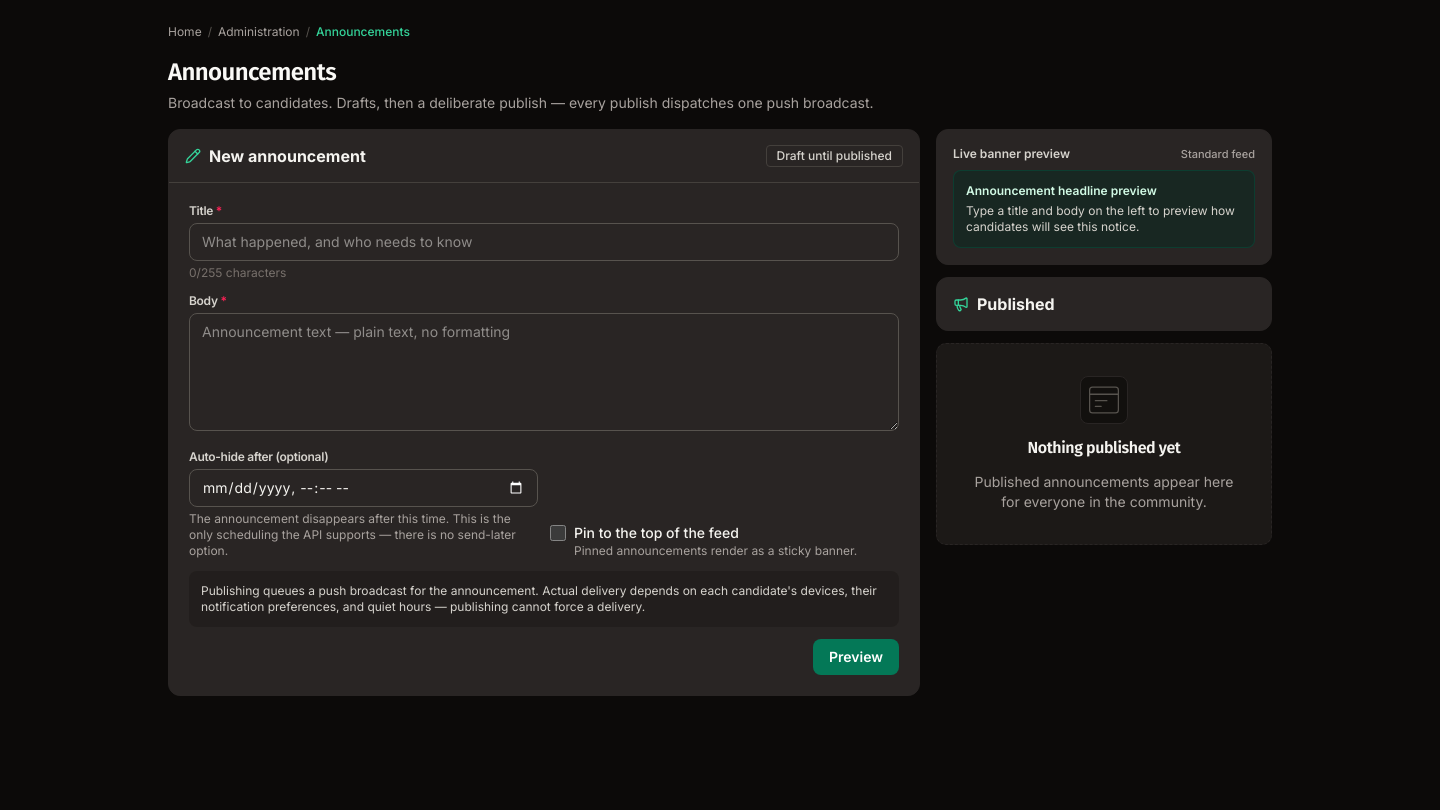
AdminAnnouncementsPage (9.5 Task 9) › previews, saves as a draft via POST, and keeps it unpublished
This screenshot has width=1440, height=810.
Type "Scheduled maintenance" into the field with test id "ann-title".
click(544, 242); type("Scheduled maintenance")  # box left=189, top=223, right=899, bottom=261
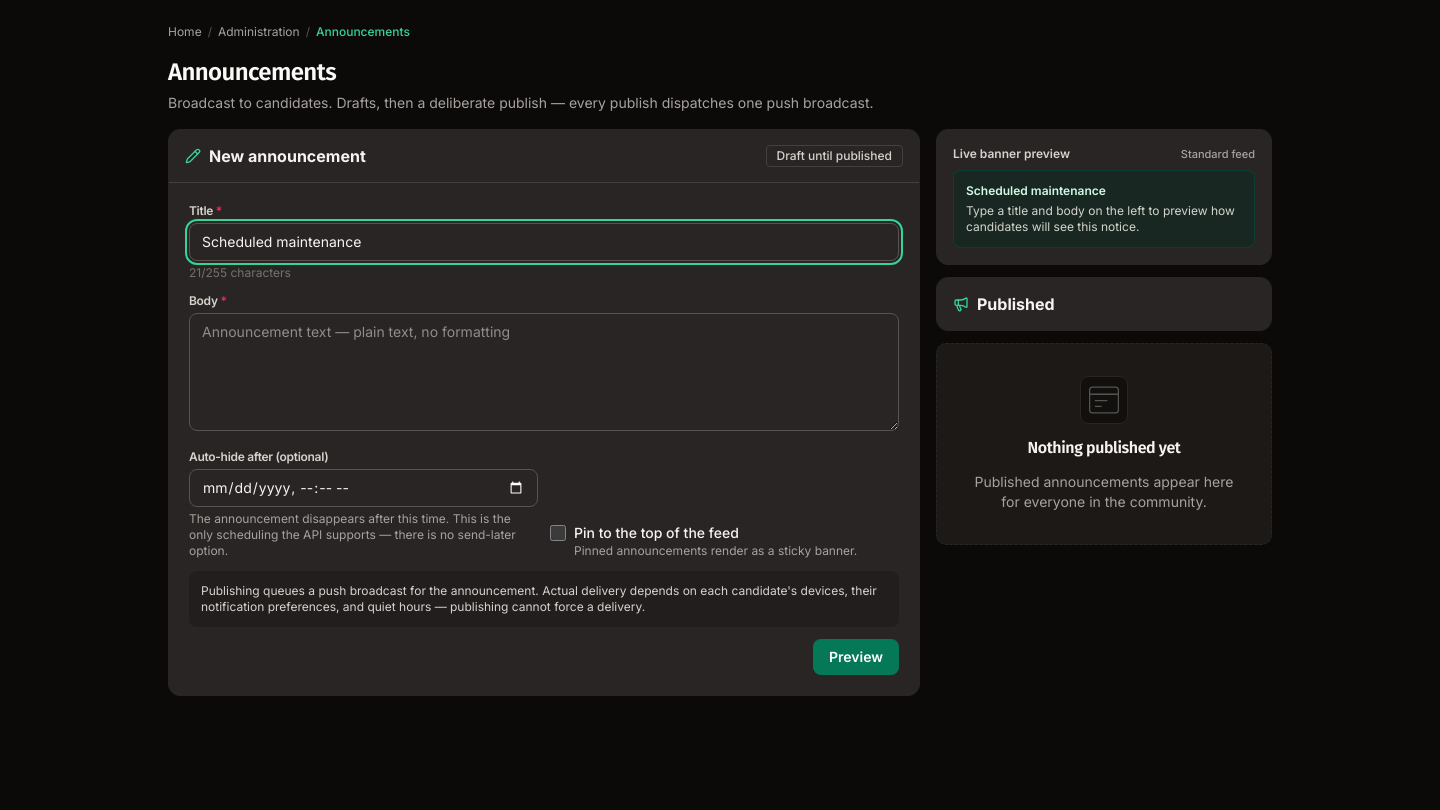
Type "The app will be unavailable on Sunday morning." into the text box with test id "ann-body".
click(544, 372); type("The app will be unavailable on Sunday morning.")  # box left=189, top=313, right=899, bottom=431
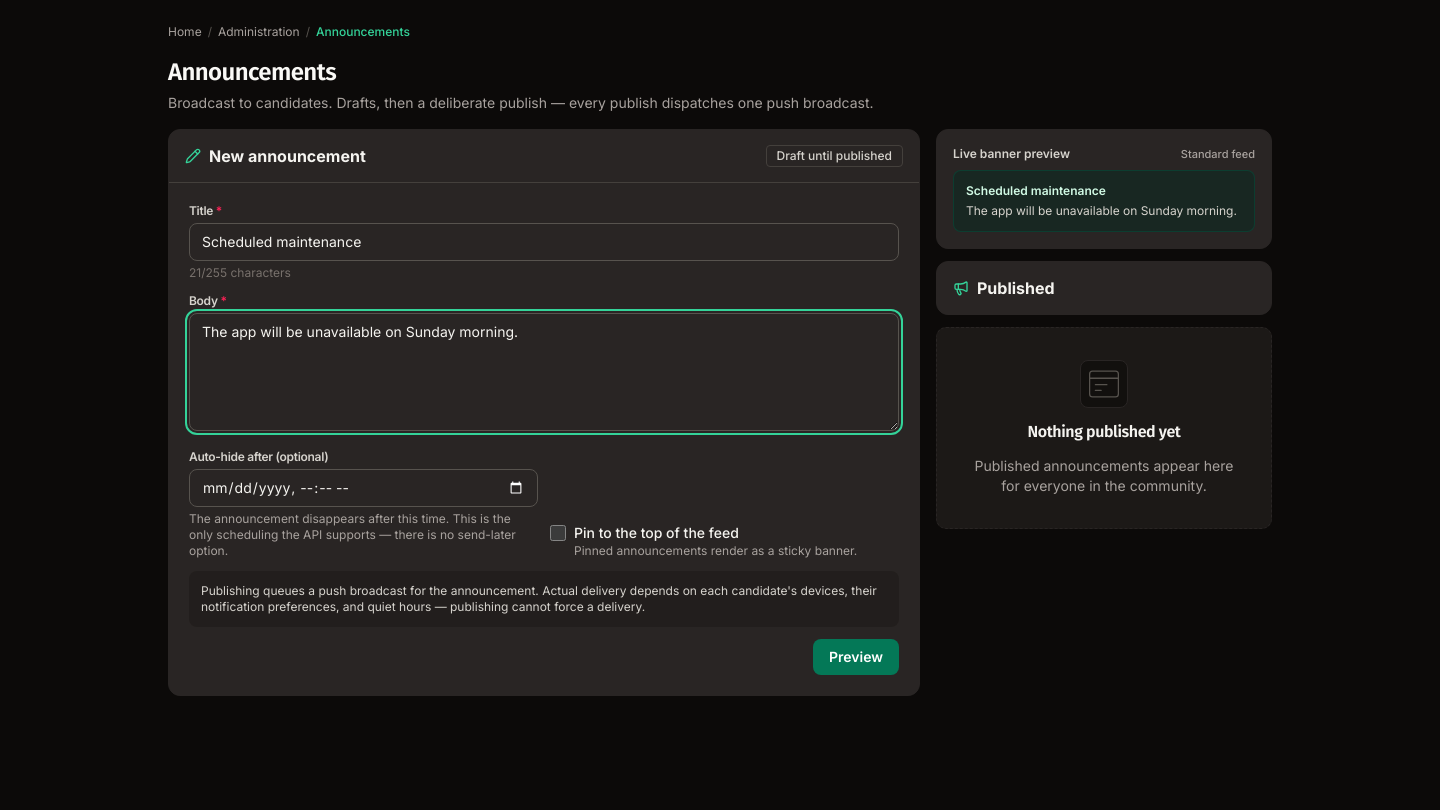
Click the button with test id "ann-preview".
click(856, 657)  # box left=813, top=639, right=899, bottom=675
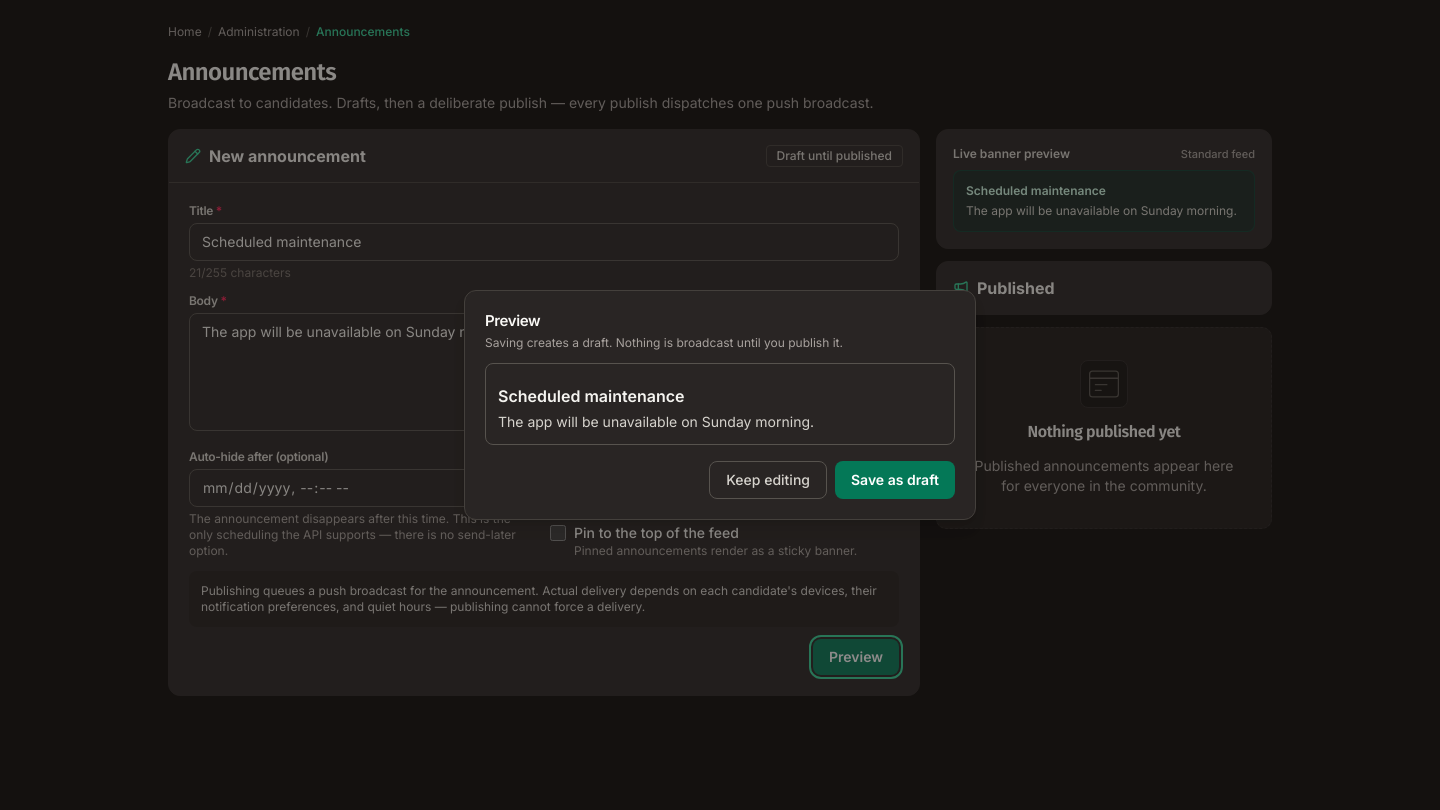
expect the dialog with test id "preview-dialog" is shown: met
expect the text "Nothing is broadcast until you publish" is shown: met, box left=485, top=335, right=843, bottom=350
Click the button with test id "preview-save".
click(895, 480)  # box left=835, top=461, right=955, bottom=499
(page scrolled)
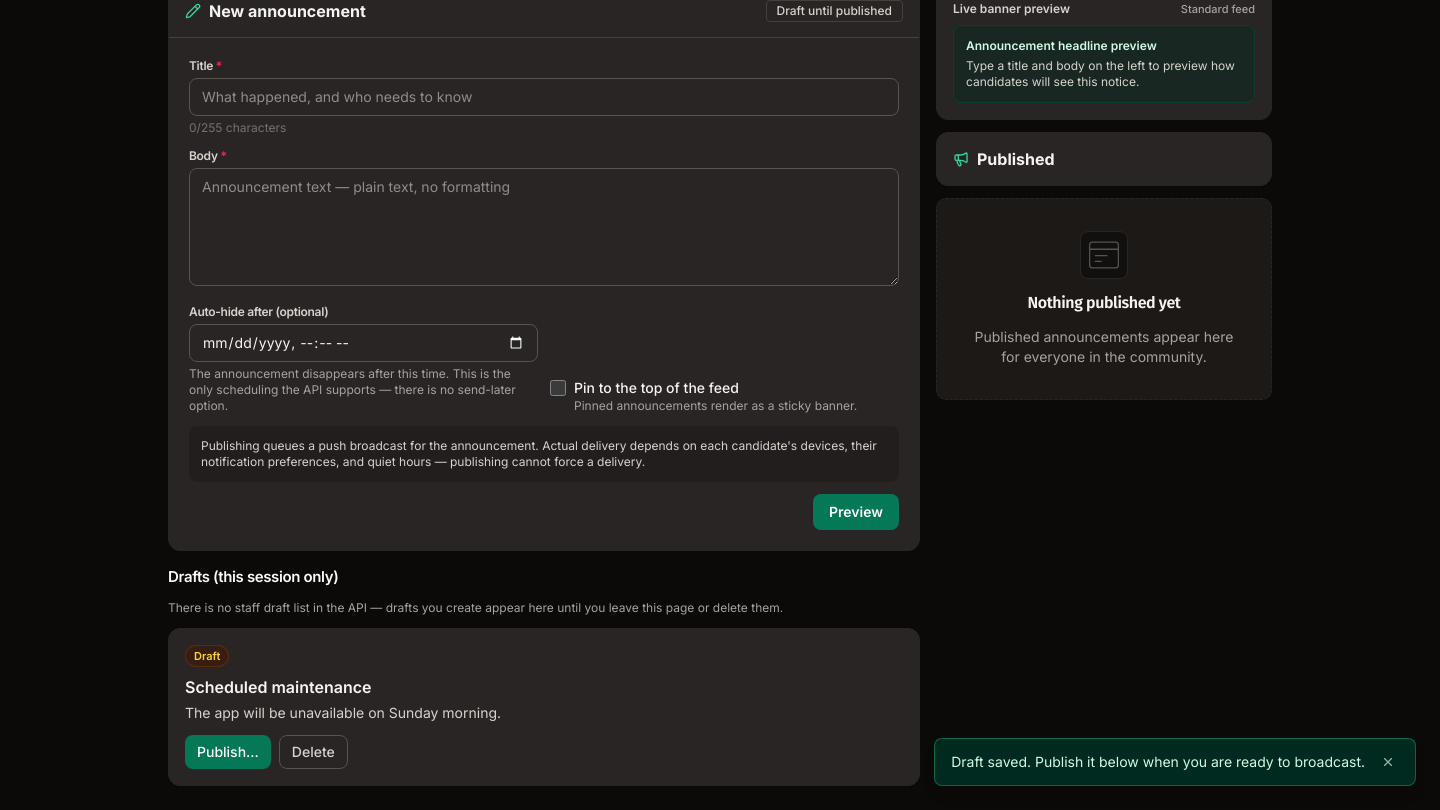
expect the element with test id "draft-row" is shown: met, box left=168, top=628, right=920, bottom=786
expect the text "Draft" is shown: met, box left=185, top=645, right=229, bottom=667
